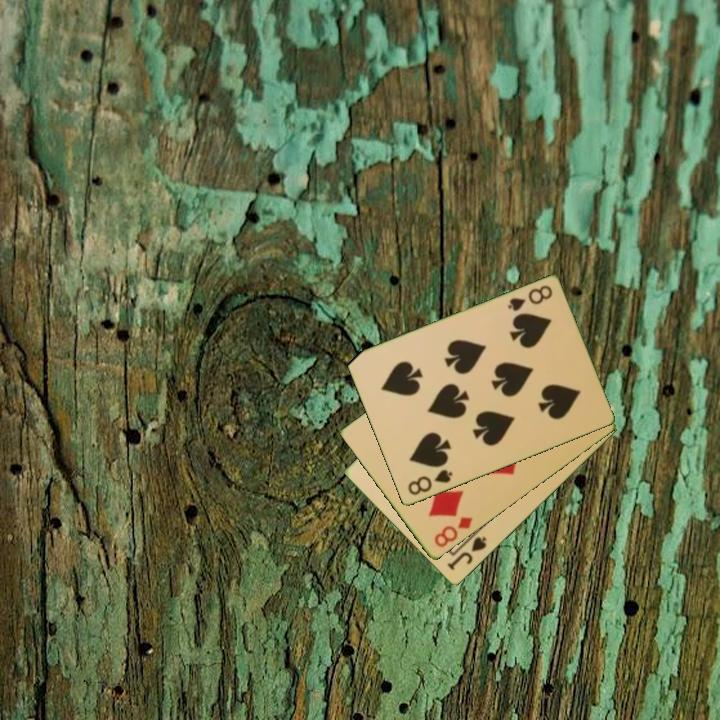8d: (430, 514, 476, 551)
8s: (404, 466, 455, 498), (504, 282, 555, 314)
Js: (444, 533, 490, 573)
